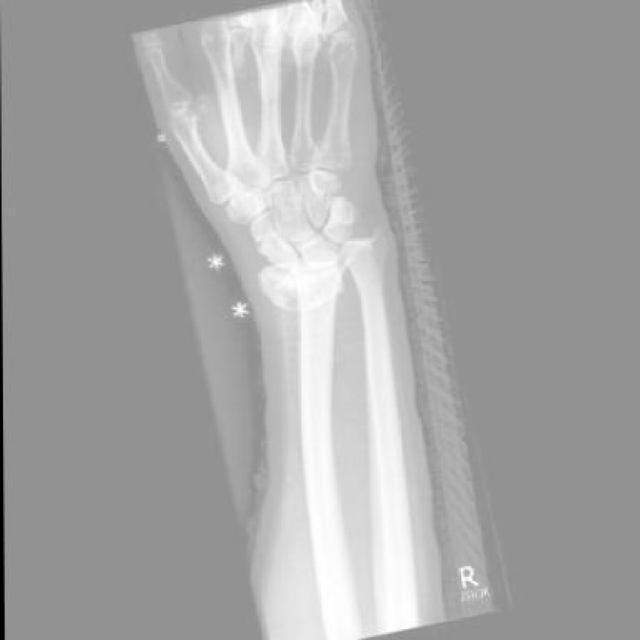Fracture: (254, 242, 366, 325), (248, 222, 292, 256)
